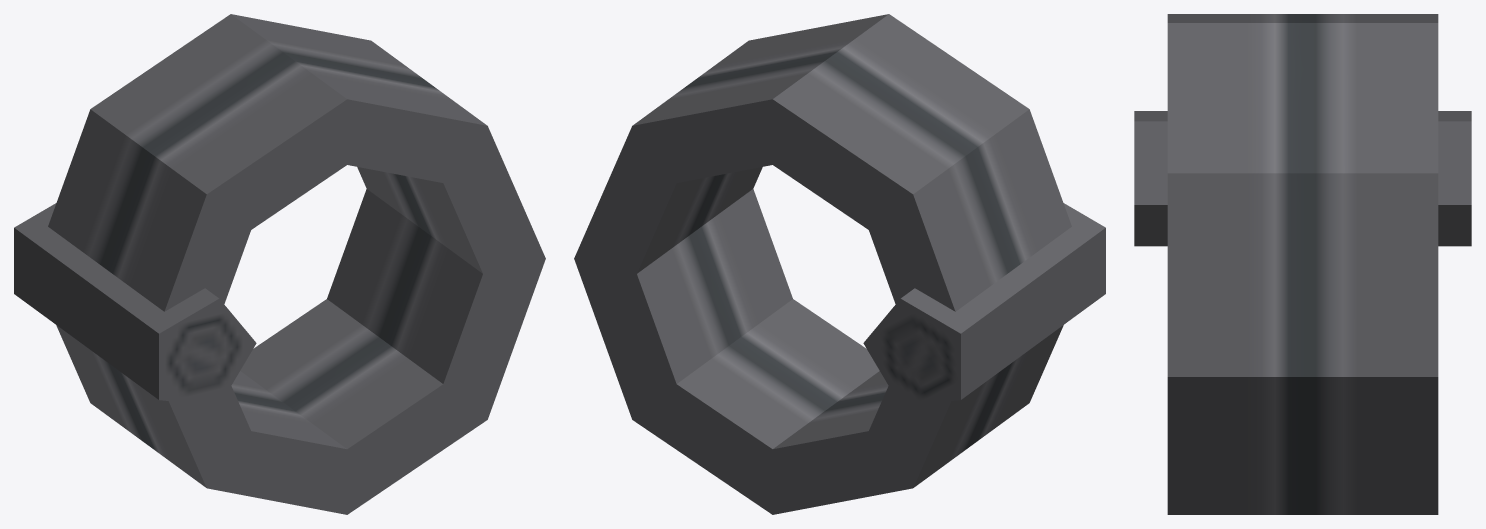
Rendered from SM_Prop_Cuff_01.fbx.
The picture shows the model from 3 angles, left to right: view 1: azimuth 30°, elevation 25°; view 2: azimuth 150°, elevation 25°; view 3: azimuth 270°, elevation 25°; orthographic projection. The views are drawn at different scales.
Parts seen in each view (by area): view 1: SM_Prop_Cuff_01; view 2: SM_Prop_Cuff_01; view 3: SM_Prop_Cuff_01.
Boxes of the visible parts, x1,y1,x2,y2 form: SM_Prop_Cuff_01: [14, 14, 545, 514]; SM_Prop_Cuff_01: [574, 14, 1105, 514]; SM_Prop_Cuff_01: [1134, 14, 1471, 514].
Bounding box in the file's own units: 11.61 × 11.5 × 7.27.
